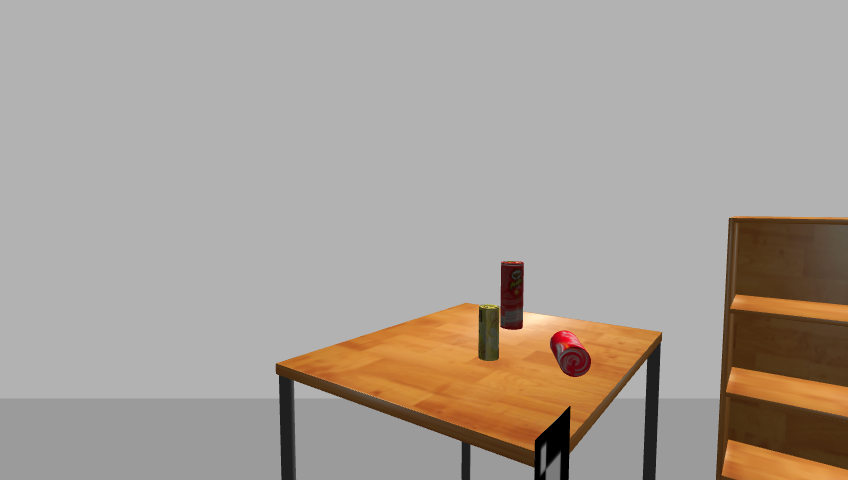aruco marker: (531, 407, 573, 480)
biscuits pack: (478, 304, 501, 362)
bookshelf: (714, 216, 848, 479)
coke can: (548, 330, 593, 377)
dinner table: (270, 304, 670, 479)
pringles can: (498, 260, 526, 332)
